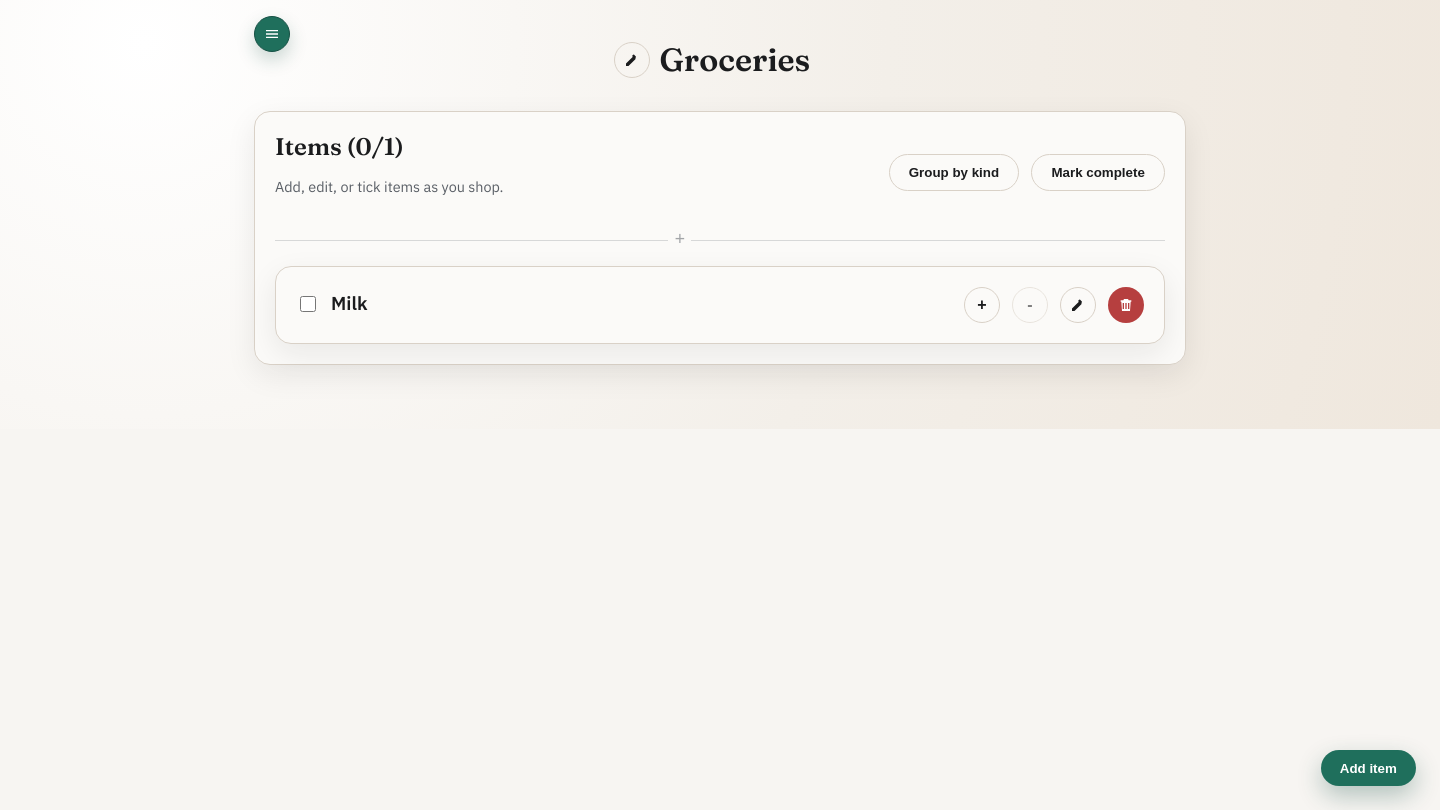
Test: ListDetail visibility-gated refetch › last-write-wins: newer deferred refetch supersedes older deferred refetch
The image size is (1440, 810).
Expected: the heading "Groceries" is shown, [659, 40, 810, 79]
Click the button named "Edit" at (1078,306), box [1060, 288, 1096, 324]
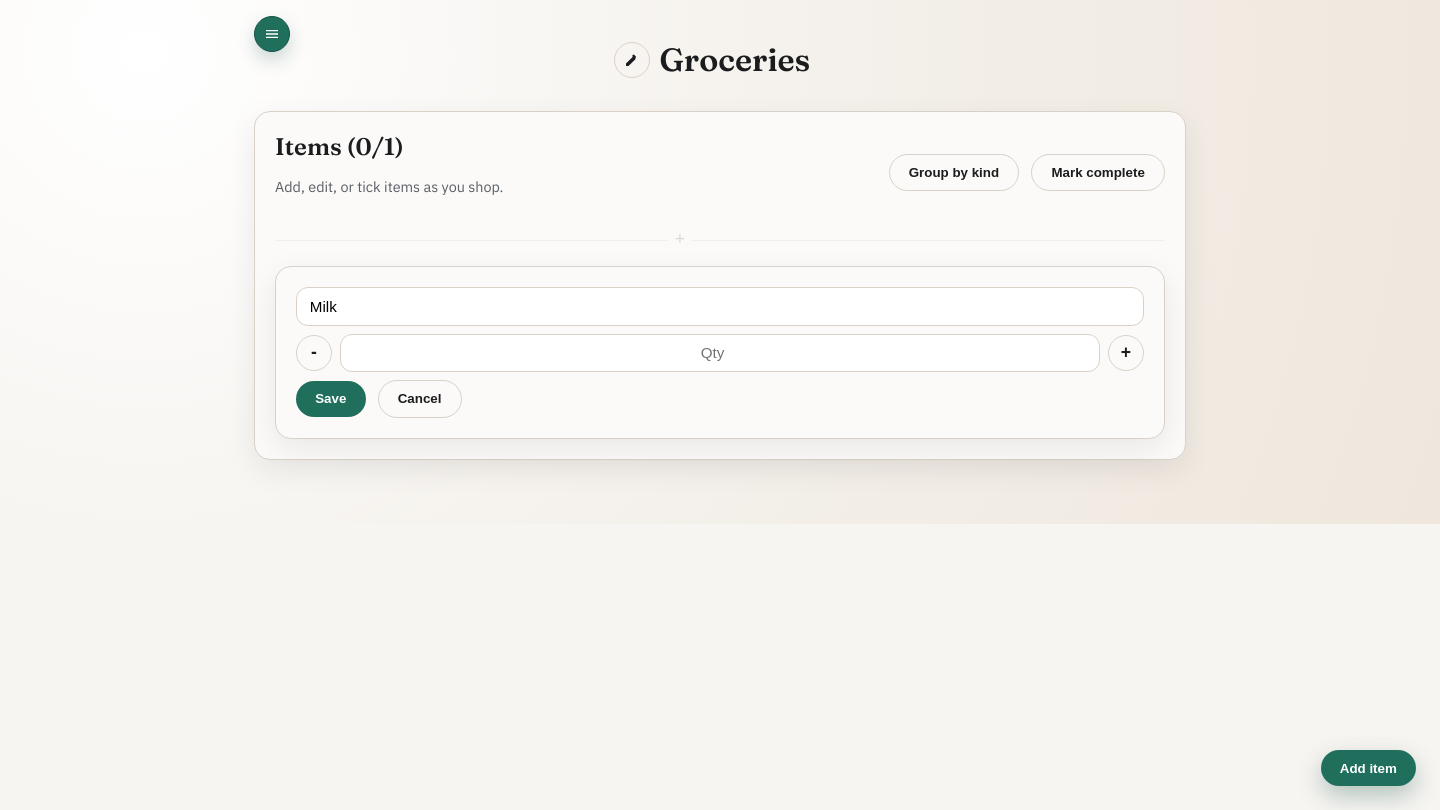
Result: the field showing "Milk" is shown at [296, 288, 1144, 326]
Click the button "Cancel" at (420,399), box [378, 380, 462, 418]
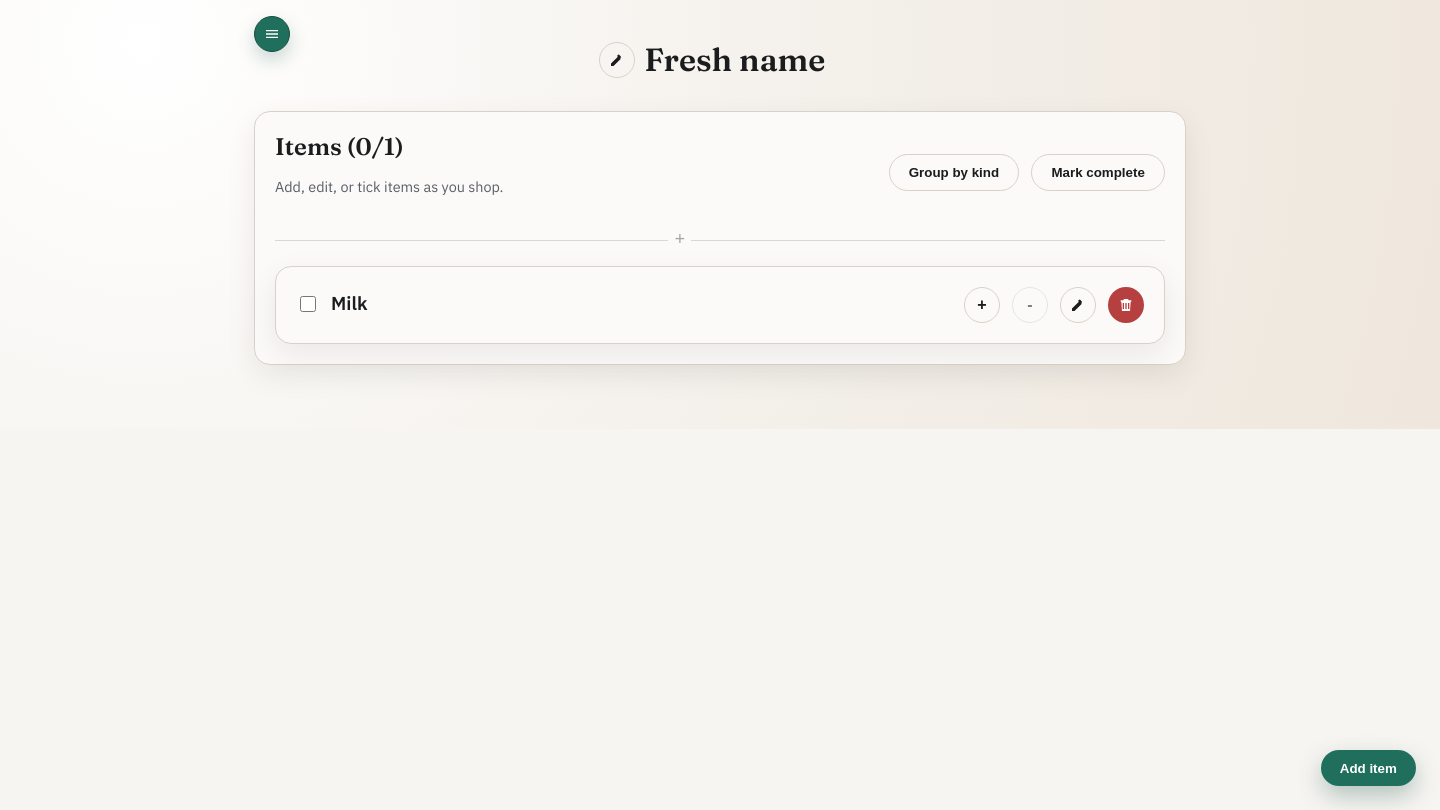
Result: the heading "Fresh name" is shown at [644, 40, 825, 79]
